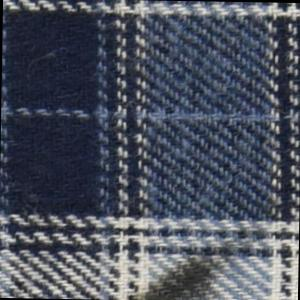Stain: (137, 237, 253, 300)
